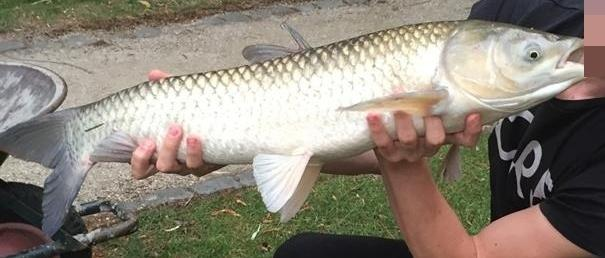Grass Carp: (2, 18, 583, 233)
